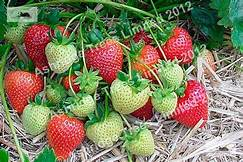Fresa: (166, 79, 216, 130), (23, 22, 72, 74), (81, 36, 127, 84), (44, 112, 88, 161), (2, 67, 45, 116), (156, 23, 196, 70), (127, 42, 162, 84)
